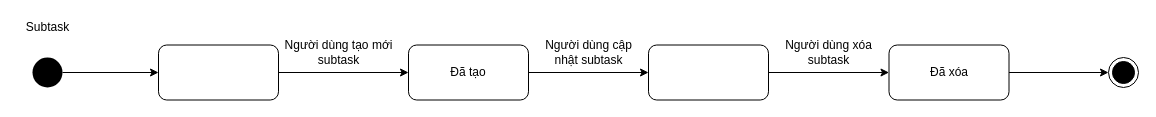
The diagram is 1156 pixels wide and 117 high, and some of its shapes have lost their labels. Each missing label, with the box of its shape:
Chưa được tạo: (158, 44, 278, 100)
Đã cập nhật: (648, 44, 768, 100)
